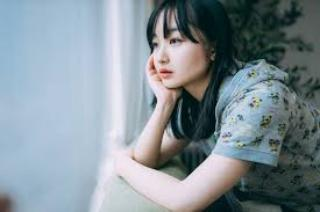person - v3 P: (118, 3, 304, 210)
